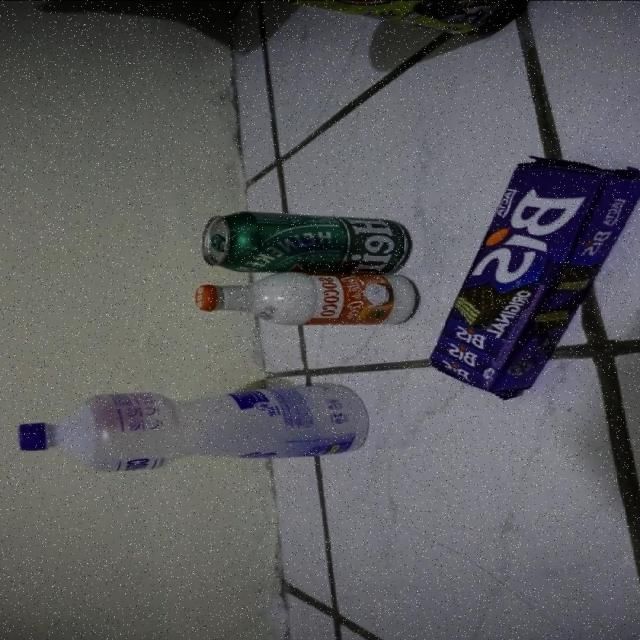AlcoholBottle: (19, 383, 369, 474)
BeerCan: (200, 210, 412, 278)
ChocolatePowder: (244, 0, 538, 39)
CoconutMilk: (192, 272, 420, 327)
